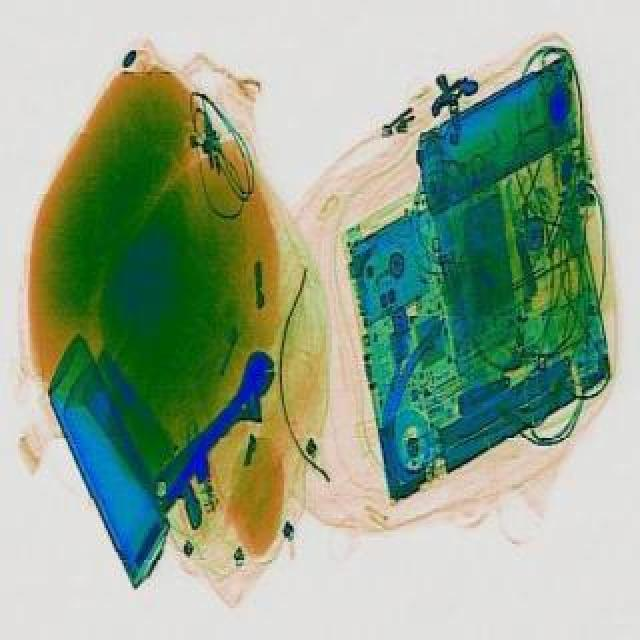scissors: (136, 342, 292, 502)
